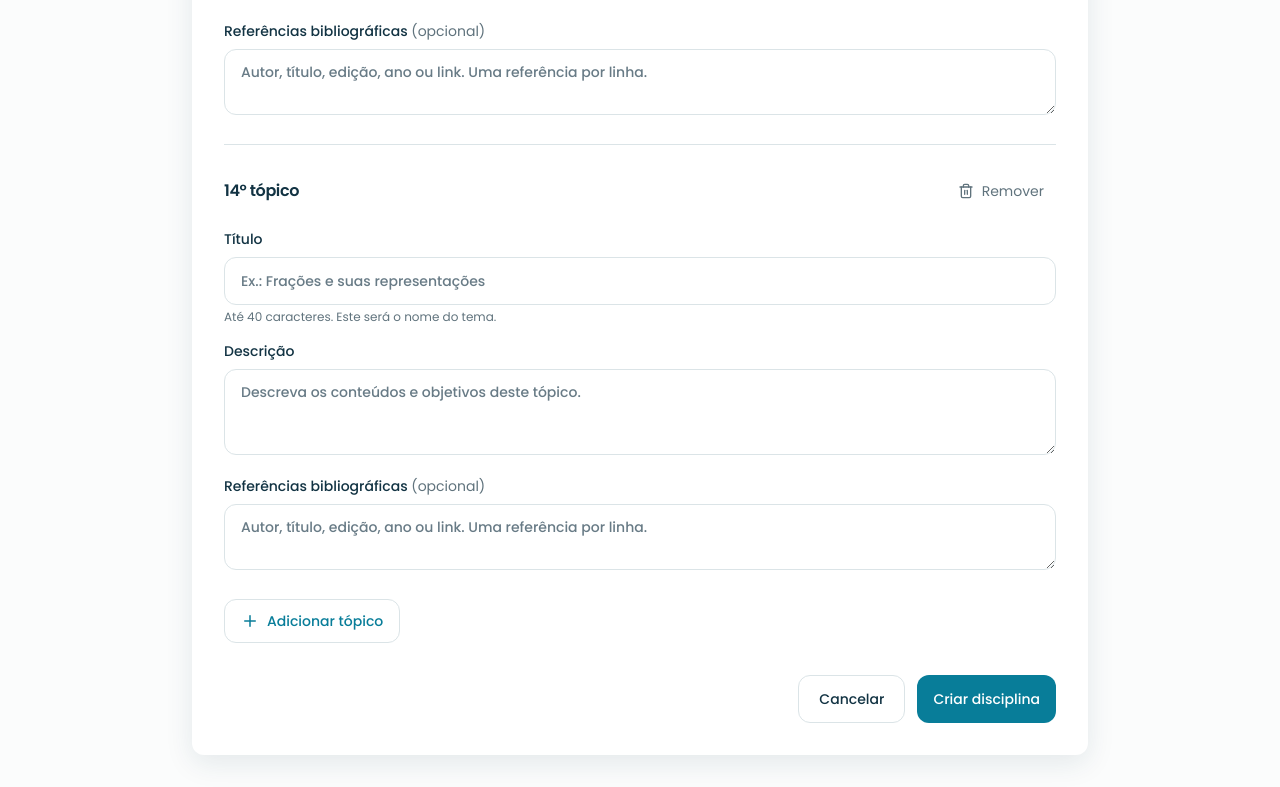
Test case: começa com um tópico, adiciona até 15 e permite remover um espaço vazio
This screenshot has width=1280, height=787.
Earlier steps of the test are not shown.
(page scrolled)
Click the button "Adicionar tópico".
click(312, 621)  # box [224,599,400,643]
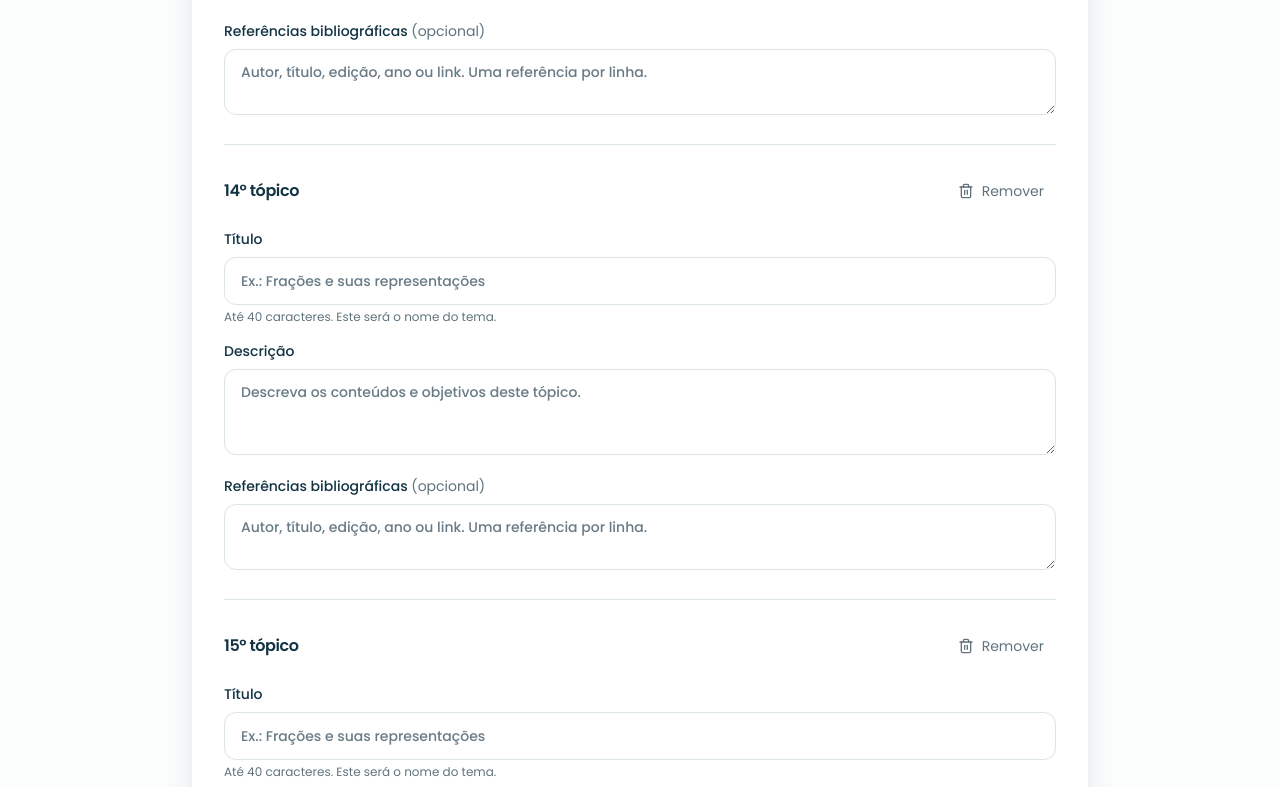
Click the button with aria-label "Remover tópico 15".
click(1001, 646)  # box [946,624,1056,668]
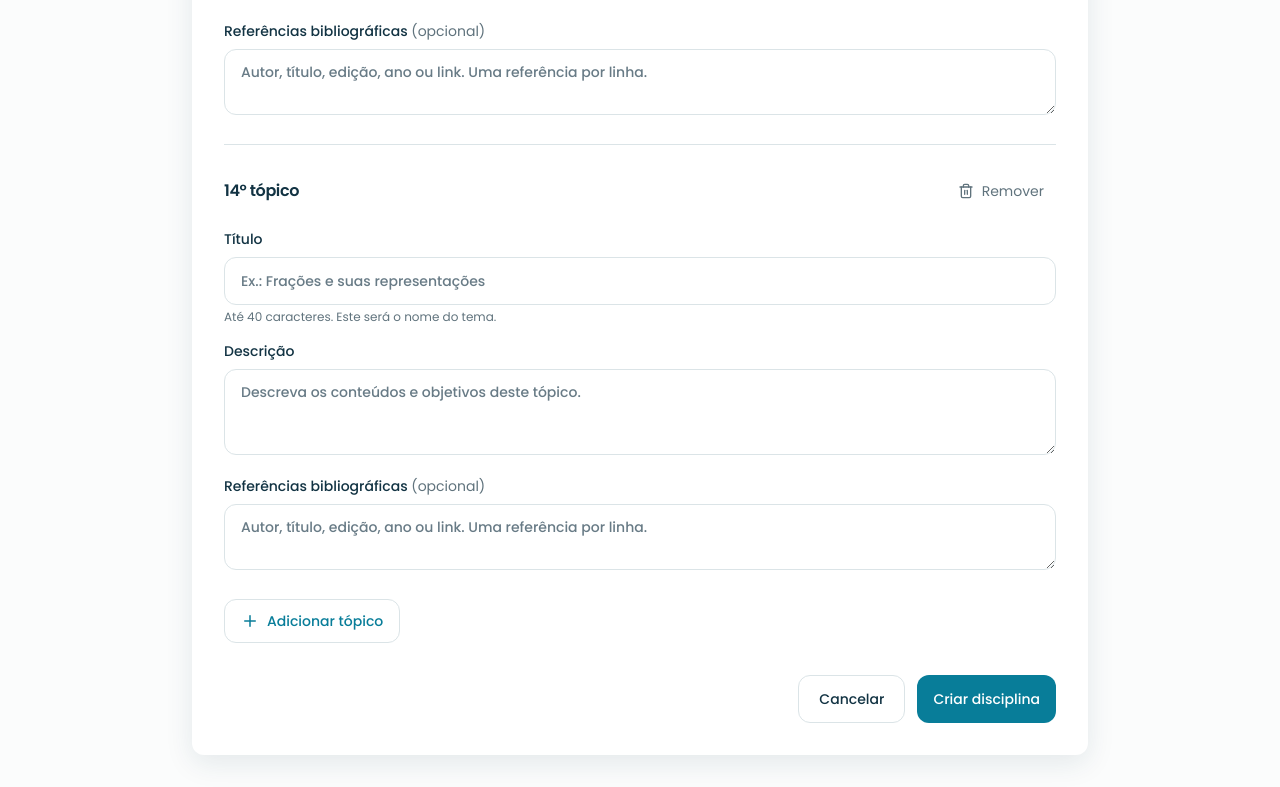
Now the button "Adicionar tópico" is enabled, box [224,599,400,643]
